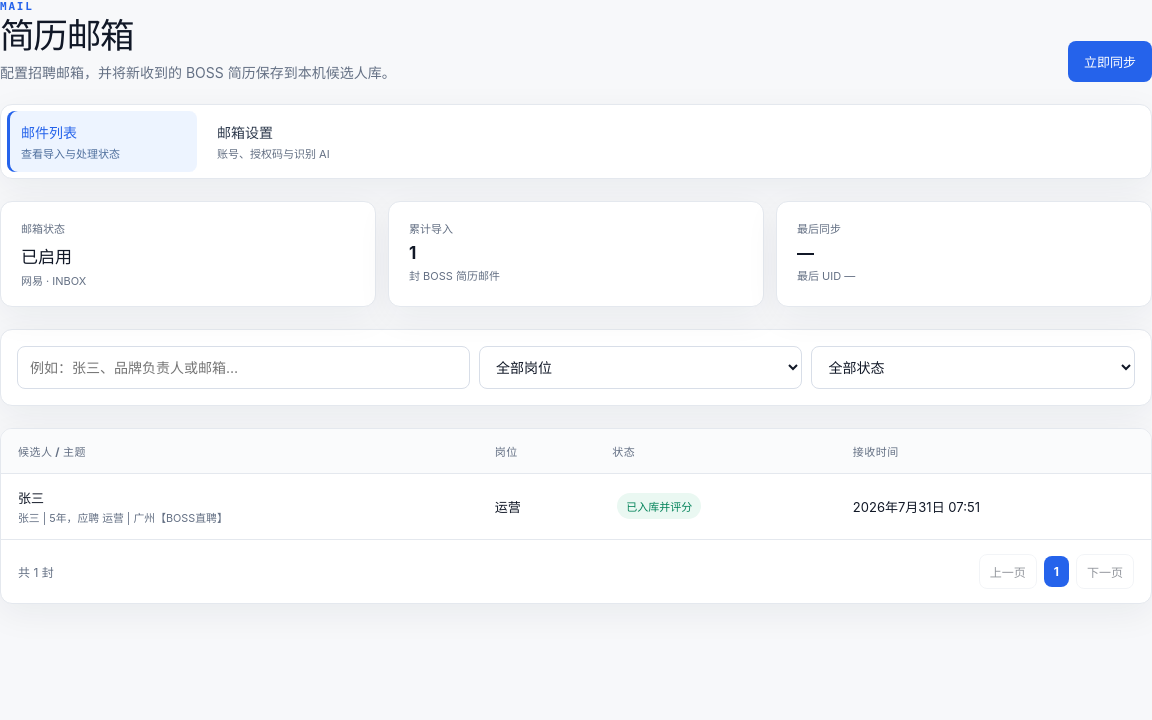
Test: MailPage › shows an explicit empty state when the candidate has no portfolio
Click the button "张三 张三 | 5年，应聘 运营 | 广州【BOSS直聘】" at (123, 518), box [18, 488, 461, 525]
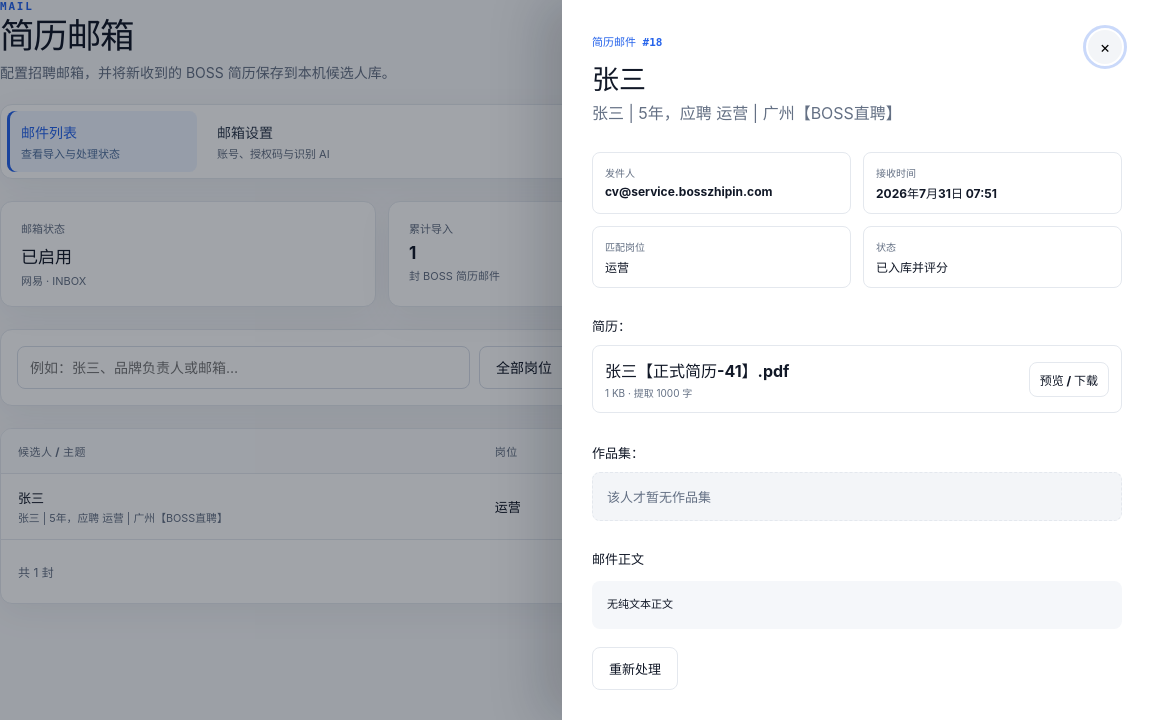
Check: the text "该人才暂无作品集" is shown, box [592, 472, 1122, 521]
